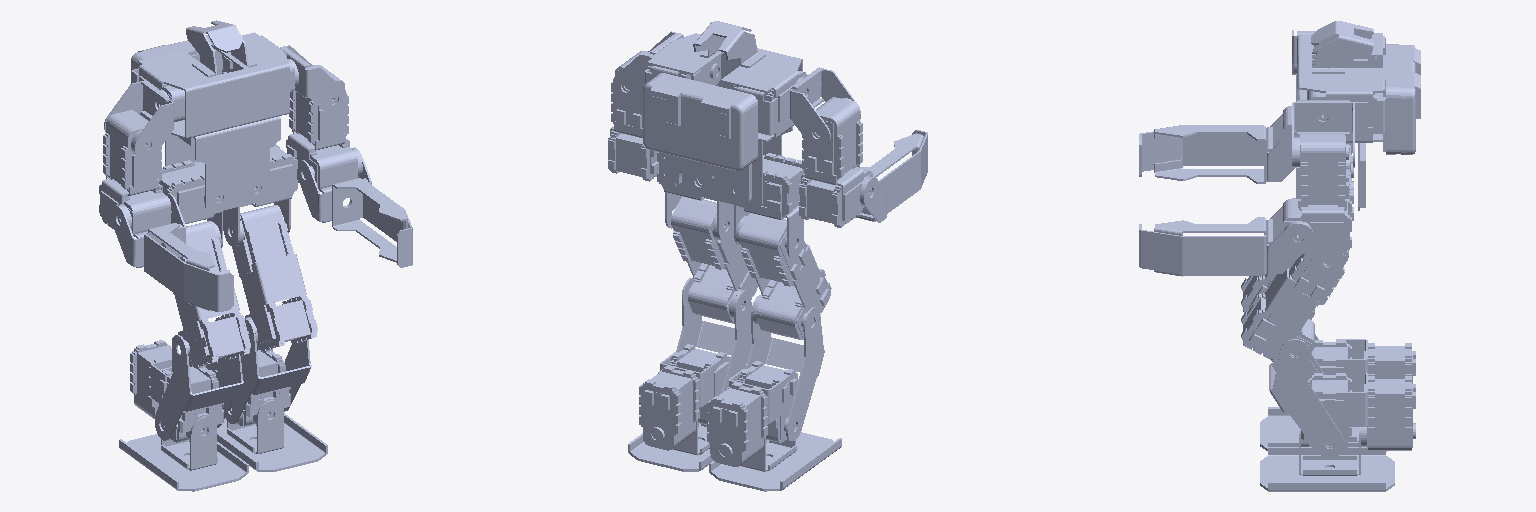
--- Facts derived from the render (not from the file) ---
3 views of the same robot in one strip: view 1: azimuth 30°, elevation 25°; view 2: azimuth 150°, elevation 25°; view 3: azimuth 270°, elevation 25° (orthographic).
Model BioloidGP with 17 links and 16 joints (16 revolute), rooted at torso, posed all joints at 0.
Visible links, largest first — view 1: torso, l_thigh, r_hand, r_arm, l_hand, r_foot, l_arm, r_thigh, l_foot, r_heel, r_shin, l_shin (+5 smaller); view 2: torso, r_thigh, r_heel, r_arm, l_heel, l_thigh, r_foot, r_shin, r_hand, l_shin, r_hip, l_arm (+4 smaller); view 3: torso, l_hand, r_hand, l_arm, l_heel, l_thigh, l_foot, l_shin, r_heel, l_shoulder, r_foot, r_thigh (+1 smaller).
Link boxes in pixels (left/top/right/bottom): torso: left=131, top=20, right=298, bottom=212; l_thigh: left=230, top=205, right=317, bottom=351; r_hand: left=111, top=193, right=233, bottom=311; r_arm: left=99, top=110, right=170, bottom=236; l_hand: left=297, top=147, right=412, bottom=267; r_foot: left=119, top=416, right=248, bottom=491; l_arm: left=286, top=65, right=362, bottom=191; r_thigh: left=162, top=221, right=250, bottom=367; l_foot: left=217, top=400, right=327, bottom=471; r_heel: left=130, top=340, right=223, bottom=442; r_shin: left=155, top=335, right=243, bottom=440; l_shin: left=225, top=318, right=311, bottom=423; torso: left=643, top=21, right=807, bottom=209; r_thigh: left=736, top=213, right=831, bottom=339; r_heel: left=707, top=361, right=797, bottom=466; r_arm: left=799, top=97, right=872, bottom=227; l_heel: left=639, top=344, right=729, bottom=450; l_thigh: left=671, top=196, right=758, bottom=323; r_foot: left=709, top=432, right=841, bottom=491; r_shin: left=745, top=294, right=824, bottom=440; r_hand: left=855, top=130, right=927, bottom=222; l_shin: left=676, top=278, right=751, bottom=393; r_hip: left=734, top=153, right=804, bottom=257; l_arm: left=608, top=51, right=658, bottom=181; torso: left=1297, top=21, right=1420, bottom=210; l_hand: left=1139, top=198, right=1313, bottom=276; r_hand: left=1139, top=114, right=1296, bottom=183; l_arm: left=1283, top=133, right=1351, bottom=253; l_heel: left=1301, top=373, right=1415, bottom=454; l_thigh: left=1241, top=250, right=1348, bottom=362; l_foot: left=1260, top=427, right=1394, bottom=491; l_shin: left=1269, top=339, right=1344, bottom=457; r_heel: left=1312, top=339, right=1415, bottom=383; l_shoulder: left=1292, top=100, right=1354, bottom=167; r_foot: left=1260, top=407, right=1386, bottom=451; r_thigh: left=1241, top=274, right=1314, bottom=319.
Bounding box of the posed robot: 0.2024 × 0.2024 × 0.3404 m (x, y, z).
17 mesh visuals loaded from 17 distinct referenced files (16 binary STL, 1 OBJ).

URDF robot description (BioloidGP):
<robot
    name="BioloidGP">
  <link
      name="torso">
    <inertial>
      <origin
          xyz="-0.000250324865569353 -0.029407680000666 -0.0227167726210591"
          rpy="0 0 0" />
      <mass
          value="0.323808555028714" />
      <inertia
          ixx="0.000452106276656287"
          ixy="-3.6274580970901E-06"
          ixz="-3.55584170221267E-06"
          iyy="0.000546208431007415"
          iyz="-5.35794321291033E-05"
          izz="0.000433800331086534" />
    </inertial>
    <visual>
      <origin
          xyz="0 0 0"
          rpy="0 0 0" />
      <geometry>
        <mesh
            filename="torsoNoBattery.obj" />
      </geometry>
      <material
          name="">
        <color
            rgba="0.792156862745098 0.819607843137255 0.933333333333333 1" />
      </material>
    </visual>
    <collision>
      <origin
          xyz="0 0 0"
          rpy="0 0 0" />
      <geometry>
        <mesh
            filename="torsoNoBattery.obj" />
      </geometry>
    </collision>
  </link>
  <link
      name="l_hip">
    <inertial>
      <origin
          xyz="-0.0022091131462685 -0.0128045568194227 0.0011465415996348"
          rpy="0 0 0" />
      <mass
          value="0.0496268557535681" />
      <inertia
          ixx="1.48616959606825E-05"
          ixy="6.6137669558419E-08"
          ixz="8.17238964747919E-08"
          iyy="1.09736561394743E-05"
          iyz="2.29192170351274E-07"
          izz="1.5045317979231E-05" />
    </inertial>
    <visual>
      <origin
          xyz="0 0 0"
          rpy="0 0 0" />
      <geometry>
        <mesh
            filename="l_hip.STL" />
      </geometry>
      <material
          name="">
        <color
            rgba="0.792156862745098 0.819607843137255 0.933333333333333 1" />
      </material>
    </visual>
    <collision>
      <origin
          xyz="0 0 0"
          rpy="0 0 0" />
      <geometry>
        <mesh
            filename="l_hip.STL" />
      </geometry>
    </collision>
  </link>
  <joint
      name="l_hip"
      type="revolute">
    <origin
        xyz="0.0159999999999967 0 -0.0765"
        rpy="1.5707963267949 -1.5707963267949 0" />
    <parent
        link="torso" />
    <child
        link="l_hip" />
    <axis
        xyz="0 0 -1" />
    <dynamics damping="0.1" friction="0" />
    <limit effort="200" velocity="12" lower="-2.1000" upper="2.1000" />
    <safety_controller k_position="100" k_velocity="100" soft_lower_limit="-10.6981" soft_upper_limit="10.6981" />
  </joint>
  <link
      name="l_thigh">
    <inertial>
      <origin
          xyz="-0.00100679656416081 -0.0436512889358152 -0.0115146440426869"
          rpy="0 0 0" />
      <mass
          value="0.0943483319483085" />
      <inertia
          ixx="0.000107817177501598"
          ixy="4.03579084705786E-06"
          ixz="-2.58279010663784E-07"
          iyy="2.26809588767613E-05"
          iyz="2.32703245456579E-07"
          izz="0.000108750782236108" />
    </inertial>
    <visual>
      <origin
          xyz="0 0 0"
          rpy="0 0 0" />
      <geometry>
        <mesh
            filename="l_thigh.STL" />
      </geometry>
      <material
          name="">
        <color
            rgba="0.792156862745098 0.819607843137255 0.933333333333333 1" />
      </material>
    </visual>
    <collision>
      <origin
          xyz="0 0 0"
          rpy="0 0 0" />
      <geometry>
        <mesh
            filename="l_thigh.STL" />
      </geometry>
    </collision>
  </link>
  <joint
      name="l_thigh"
      type="revolute">
    <origin
        xyz="-0.0417999999999999 0 0.000399999999996359"
        rpy="-1.57079632679489 -1.0471975511966 -1.38777878078145E-15" />
    <parent
        link="l_hip" />
    <child
        link="l_thigh" />
    <axis
        xyz="0 0 1" />
    <dynamics damping="0.1" friction="0" />
    <limit effort="200" velocity="12" lower="-2.1000" upper="2.1000" />
    <safety_controller k_position="100" k_velocity="100" soft_lower_limit="-10.6981" soft_upper_limit="10.6981" />
  </joint>

  <link
      name="l_shin">
    <inertial>
      <origin
          xyz="-0.0127000000000007 0.0340551332977271 0.015563237763762"
          rpy="0 0 0" />
      <mass
          value="0.00790727972273849" />
      <inertia
          ixx="5.32776553828392E-06"
          ixy="-1.81109996454885E-19"
          ixz="-3.19965088401743E-20"
          iyy="4.22027747361512E-06"
          iyz="3.92003519035654E-07"
          izz="7.78909127423424E-06" />
    </inertial>
    <visual>
      <origin
          xyz="0 0 0"
          rpy="0 0 0" />
      <geometry>
        <mesh
            filename="l_shin.STL" />
      </geometry>
      <material
          name="">
        <color
            rgba="0.792156862745098 0.819607843137255 0.933333333333333 1" />
      </material>
    </visual>
    <collision>
      <origin
          xyz="0 0 0"
          rpy="0 0 0" />
      <geometry>
        <mesh
            filename="l_shin.STL" />
      </geometry>
    </collision>
  </link>
  <joint
      name="l_shin"
      type="revolute">
    <origin
        xyz="-0.0156000000000005 -0.0743999999999996 0"
        rpy="2.0943483319483085 -1.5707963267949 0" />
    <parent
        link="l_thigh" />
    <child
        link="l_shin" />
    <axis
        xyz="1 0 0" />
    <dynamics damping="0.1" friction="0" />
    <limit effort="200" velocity="12" lower="-2.1000" upper="2.1000" />
    <safety_controller k_position="100" k_velocity="100" soft_lower_limit="-10.6981" soft_upper_limit="10.6981" />
  </joint>

  <link
      name="l_heel">
    <inertial>
      <origin
          xyz="-0.0127471904005562 0.019537076734909 0.0118127454835659"
          rpy="0 0 0" />
      <mass
          value="0.0961765714728049" />
      <inertia
          ixx="6.31330083138111E-05"
          ixy="-3.19975987021481E-07"
          ixz="-2.32144687284712E-07"
          iyy="2.59499124215307E-05"
          iyz="5.4845575097287E-07"
          izz="7.1796389444019E-05" />
    </inertial>
    <visual>
      <origin
          xyz="0 0 0"
          rpy="0 0 0" />
      <geometry>
        <mesh
            filename="l_heel.STL" />
      </geometry>
      <material
          name="">
        <color
            rgba="0.792156862745098 0.819607843137255 0.933333333333333 1" />
      </material>
    </visual>
    <collision>
      <origin
          xyz="0 0 0"
          rpy="0 0 0" />
      <geometry>
        <mesh
            filename="l_heel.STL" />
      </geometry>
    </collision>
  </link>
  <joint
      name="l_heel"
      type="revolute">
    <origin
        xyz="0 0.0750000000000011 0.0144999999999982"
        rpy="-1.5707963267949 -0.523598775598291 1.5707963267949" />
    <parent
        link="l_shin" />
    <child
        link="l_heel" />
    <axis
        xyz="0 0 -1" />
    <dynamics damping="0.1" friction="0" />
    <limit effort="200" velocity="12" lower="-2.1000" upper="2.1000" />
    <safety_controller k_position="100" k_velocity="100" soft_lower_limit="-10.6981" soft_upper_limit="10.6981" />
  </joint>

  <link
      name="l_foot">
    <inertial>
      <origin
          xyz="-0.00131235735522086 0.0275947483062579 -0.00415898272684236"
          rpy="0 0 0" />
      <mass
          value="0.017613702318087" />
      <inertia
          ixx="6.4413340155928E-06"
          ixy="-7.4168165680616E-08"
          ixz="3.57223027579177E-08"
          iyy="1.64253742929524E-05"
          iyz="-2.03962455621592E-07"
          izz="1.21662517458466E-05" />
    </inertial>
    <visual>
      <origin
          xyz="0 0 0"
          rpy="0 0 0" />
      <geometry>
        <mesh
            filename="l_foot.STL" />
      </geometry>
      <material
          name="">
        <color
            rgba="0.792156862745098 0.819607843137255 0.933333333333333 1" />
      </material>
    </visual>
    <collision>
      <origin
          xyz="0 0 0"
          rpy="0 0 0" />
      <geometry>
        <mesh
            filename="l_foot_box.obj" />
      </geometry>
    </collision>
  </link>
  <joint
      name="l_foot"
      type="revolute">
    <origin
        xyz="0.000299999999999467 0 0.0121000000000051"
        rpy="-3.14159265358979 3.46944695195361E-16 1.5707963267949" />
    <parent
        link="l_heel" />
    <child
        link="l_foot" />
    <axis
        xyz="1 0 0" />
    <dynamics damping="0.1" friction="0" />
    <limit effort="200" velocity="12" lower="-2.1000" upper="2.1000" />
    <safety_controller k_position="100" k_velocity="100" soft_lower_limit="-10.6981" soft_upper_limit="10.6981" />
  </joint>

  <link
      name="r_hip">
    <inertial>
      <origin
          xyz="0.00220885214673641 -0.0128045568194226 0.00114654159963536"
          rpy="0 0 0" />
      <mass
          value="0.0496268557535681" />
      <inertia
          ixx="1.48616959606825E-05"
          ixy="-6.6303521683512E-08"
          ixz="-8.19551449322855E-08"
          iyy="1.097371336355E-05"
          iyz="2.29192170351272E-07"
          izz="1.50453752033067E-05" />
    </inertial>
    <visual>
      <origin
          xyz="0 0 0"
          rpy="0 0 0" />
      <geometry>
        <mesh
            filename="r_hip.STL" />
      </geometry>
      <material
          name="">
        <color
            rgba="0.792156862745098 0.819607843137255 0.933333333333333 1" />
      </material>
    </visual>
    <collision>
      <origin
          xyz="0 0 0"
          rpy="0 0 0" />
      <geometry>
        <mesh
            filename="r_hip.STL" />
      </geometry>
    </collision>
  </link>
  <joint
      name="r_hip"
      type="revolute">
    <origin
        xyz="-0.0160000000000027 0 -0.0765"
        rpy="1.5707963267949 1.5707963267949 0" />
    <parent
        link="torso" />
    <child
        link="r_hip" />
    <axis
        xyz="0 0 -1" />
    <dynamics damping="0.1" friction="0" />
    <limit effort="200" velocity="12" lower="-2.1000" upper="2.1000" />
    <safety_controller k_position="100" k_velocity="100" soft_lower_limit="-10.6981" soft_upper_limit="10.6981" />
  </joint>

  <link
      name="r_thigh">
    <inertial>
      <origin
          xyz="0.00100665927942036 -0.0436511516510763 -0.0115146440426889"
          rpy="0 0 0" />
      <mass
          value="0.0943483319483086" />
      <inertia
          ixx="0.000107816380949157"
          ixy="-4.03616722263671E-06"
          ixz="2.58048264952533E-07"
          iyy="2.26809849562218E-05"
          iyz="2.32933991165688E-07"
          izz="0.000108750011763128" />
    </inertial>
    <visual>
      <origin
          xyz="0 0 0"
          rpy="0 0 0" />
      <geometry>
        <mesh
            filename="r_thigh.STL" />
      </geometry>
      <material
          name="">
        <color
            rgba="0.792156862745098 0.819607843137255 0.933333333333333 1" />
      </material>
    </visual>
    <collision>
      <origin
          xyz="0 0 0"
          rpy="0 0 0" />
      <geometry>
        <mesh
            filename="r_thigh.STL" />
      </geometry>
    </collision>
  </link>
  <joint
      name="r_thigh"
      type="revolute">
    <origin
        xyz="0.0417999999999985 0 0.000399999999998048"
        rpy="-1.57079632679489 1.0471975511966 1.38777878078145E-15" />
    <parent
        link="r_hip" />
    <child
        link="r_thigh" />
    <axis
        xyz="0 0 -1" />
    <dynamics damping="0.1" friction="0" />
    <limit effort="200" velocity="12" lower="-2.1000" upper="2.1000" />
    <safety_controller k_position="100" k_velocity="100" soft_lower_limit="-10.6981" soft_upper_limit="10.6981" />
  </joint>

  <link
      name="r_shin">
    <inertial>
      <origin
          xyz="0.0126999999999997 0.0340551332977292 0.0155632377637589"
          rpy="0 0 0" />
      <mass
          value="0.00790727972273849" />
      <inertia
          ixx="5.3277655382839E-06"
          ixy="-1.79867730427403E-19"
          ixz="-3.24979242833124E-20"
          iyy="4.22027747361512E-06"
          iyz="3.92003519035653E-07"
          izz="7.78909127423422E-06" />
    </inertial>
    <visual>
      <origin
          xyz="0 0 0"
          rpy="0 0 0" />
      <geometry>
        <mesh
            filename="r_shin.STL" />
      </geometry>
      <material
          name="">
        <color
            rgba="0.792156862745098 0.819607843137255 0.933333333333333 1" />
      </material>
    </visual>
    <collision>
      <origin
          xyz="0 0 0"
          rpy="0 0 0" />
      <geometry>
        <mesh
            filename="r_shin.STL" />
      </geometry>
    </collision>
  </link>
  <joint
      name="r_shin"
      type="revolute">
    <origin
        xyz="0.0156 -0.0743999999999986 0"
        rpy="2.0943951023932 1.5707963267949 0" />
    <parent
        link="r_thigh" />
    <child
        link="r_shin" />
    <axis
        xyz="1 0 0" />
    <dynamics damping="0.1" friction="0" />
    <limit effort="200" velocity="12" lower="-2.1000" upper="2.1000" />
    <safety_controller k_position="100" k_velocity="100" soft_lower_limit="-10.6981" soft_upper_limit="10.6981" />
  </joint>

  <link
      name="r_heel">
    <inertial>
      <origin
          xyz="-0.0127471904005561 0.0195372114099762 -0.0118126108084964"
          rpy="0 0 0" />
      <mass
          value="0.0961765714728048" />
      <inertia
          ixx="6.31324947576051E-05"
          ixy="-3.19810877939643E-07"
          ixz="2.32313682142065E-07"
          iyy="2.59499049784084E-05"
          iyz="-5.48154272615285E-07"
          izz="7.17958833309353E-05" />
    </inertial>
    <visual>
      <origin
          xyz="0 0 0"
          rpy="0 0 0" />
      <geometry>
        <mesh
            filename="r_heel.STL" />
      </geometry>
      <material
          name="">
        <color
            rgba="0.792156862745098 0.819607843137255 0.933333333333333 1" />
      </material>
    </visual>
    <collision>
      <origin
          xyz="0 0 0"
          rpy="0 0 0" />
      <geometry>
        <mesh
            filename="r_heel.STL" />
      </geometry>
    </collision>
  </link>
  <joint
      name="r_heel"
      type="revolute">
    <origin
        xyz="0 0.0750000000000024 0.0144999999999966"
        rpy="-1.5707963267949 -0.523598775598298 1.5707963267949" />
    <parent
        link="r_shin" />
    <child
        link="r_heel" />
    <axis
        xyz="0 0 -1" />
    <dynamics damping="0.1" friction="0" />
    <limit effort="200" velocity="12" lower="-2.1000" upper="2.1000" />
    <safety_controller k_position="100" k_velocity="100" soft_lower_limit="-10.6981" soft_upper_limit="10.6981" />
  </joint>

  <link
      name="r_foot">
    <inertial>
      <origin
          xyz="-0.00131235735521849 0.0275947483062589 0.00415898272684114"
          rpy="0 0 0" />
      <mass
          value="0.017613702318087" />
      <inertia
          ixx="6.44133401559294E-06"
          ixy="-7.41681656806808E-08"
          ixz="-3.5722302757639E-08"
          iyy="1.64253742929524E-05"
          iyz="2.03962455621599E-07"
          izz="1.21662517458467E-05" />
    </inertial>
    <visual>
      <origin
          xyz="0 0 0"
          rpy="0 0 0" />
      <geometry>
        <mesh
            filename="r_foot.STL" />
      </geometry>
      <material
          name="">
        <color
            rgba="0.792156862745098 0.819607843137255 0.933333333333333 1" />
      </material>
    </visual>
    <collision>
      <origin
          xyz="0 0 0"
          rpy="0 0 0" />
      <geometry>
        <mesh
            filename="r_foot_box.obj" />
      </geometry>
    </collision>
  </link>
  <joint
      name="r_foot"
      type="revolute">
    <origin
        xyz="0.0003000000000008 0 -0.0121000000000034"
        rpy="-3.14159265358979 -2.42861286636753E-15 1.5707963267949" />
    <parent
        link="r_heel" />
    <child
        link="r_foot" />
    <axis
        xyz="1 0 0" />
    <dynamics damping="0.1" friction="0" />
    <limit effort="200" velocity="12" lower="-2.1000" upper="2.1000" />
    <safety_controller k_position="100" k_velocity="100" soft_lower_limit="-10.6981" soft_upper_limit="10.6981" />
  </joint>

  <link
      name="l_shoulder">
    <inertial>
      <origin
          xyz="3.99848313369956E-08 -0.00923318844442571 0.00508037063086597"
          rpy="0 0 0" />
      <mass
          value="0.00432191406725111" />
      <inertia
          ixx="8.72162726851168E-07"
          ixy="1.59739093137393E-12"
          ixz="-7.83511401856554E-13"
          iyy="1.89413501942903E-06"
          iyz="-2.56794853568278E-07"
          izz="1.81730737071507E-06" />
    </inertial>
    <visual>
      <origin
          xyz="0 0 0"
          rpy="0 0 0" />
      <geometry>
        <mesh
            filename="l_shoulder.STL" />
      </geometry>
      <material
          name="">
        <color
            rgba="0.792156862745098 0.819607843137255 0.933333333333333 1" />
      </material>
    </visual>
    <collision>
      <origin
          xyz="0 0 0"
          rpy="0 0 0" />
      <geometry>
        <mesh
            filename="l_shoulder.STL" />
      </geometry>
    </collision>
  </link>
  <joint
      name="l_shoulder"
      type="revolute">
    <origin
        xyz="0.056090945471339 -0.00380000000000099 0.000299999999999985"
        rpy="3.14159265358979 -6.12303176911189E-17 -1.5707963267949" />
    <parent
        link="torso" />
    <child
        link="l_shoulder" />
    <axis
        xyz="0 1 0" />
    <dynamics damping="0.1" friction="0" />
    <limit effort="200" velocity="12" lower="-2.1000" upper="2.1000" />
    <safety_controller k_position="100" k_velocity="100" soft_lower_limit="-10.6981" soft_upper_limit="10.6981" />
  </joint>

  <link
      name="l_arm">
    <inertial>
      <origin
          xyz="0.000399125912491638 -0.0352016589942529 0.0031269511037125"
          rpy="0 0 0" />
      <mass
          value="0.0928078955204749" />
      <inertia
          ixx="6.9759461871932E-05"
          ixy="-8.22763944637886E-07"
          ixz="3.02019074715716E-07"
          iyy="2.18725319729742E-05"
          iyz="-3.73674004526739E-06"
          izz="6.39163662787992E-05" />
    </inertial>
    <visual>
      <origin
          xyz="0 0 0"
          rpy="0 0 0" />
      <geometry>
        <mesh
            filename="l_arm.STL" />
      </geometry>
      <material
          name="">
        <color
            rgba="0.792156862745098 0.819607843137255 0.933333333333333 1" />
      </material>
    </visual>
    <collision>
      <origin
          xyz="0 0 0"
          rpy="0 0 0" />
      <geometry>
        <mesh
            filename="l_arm.STL" />
      </geometry>
    </collision>
  </link>
  <joint
      name="l_arm"
      type="revolute">
    <origin
        xyz="0 -0.0230090545286614 0.0180000000000001"
        rpy="-1.5707963267949 5.96311194867027E-17 -1.5707963267949" />
    <parent
        link="l_shoulder" />
    <child
        link="l_arm" />
    <axis
        xyz="0 0 -1" />
    <dynamics damping="0.1" friction="0" />
    <limit effort="200" velocity="12" lower="-2.1000" upper="2.1000" />
    <safety_controller k_position="100" k_velocity="100" soft_lower_limit="-10.6981" soft_upper_limit="10.6981" />
  </joint>

  <link
      name="l_hand">
    <inertial>
      <origin
          xyz="-0.00430436807382556 -0.0484721582738854 0.0164089872229183"
          rpy="0 0 0" />
      <mass
          value="0.0138005964582816" />
      <inertia
          ixx="1.84571140864915E-05"
          ixy="1.00483996060817E-06"
          ixz="-1.03293552796158E-07"
          iyy="4.05560836494352E-06"
          iyz="-1.01861874923564E-06"
          izz="1.84338295416552E-05" />
    </inertial>
    <visual>
      <origin
          xyz="0 0 0"
          rpy="0 0 0" />
      <geometry>
        <mesh
            filename="l_hand.STL" />
      </geometry>
      <material
          name="">
        <color
            rgba="0.792156862745098 0.819607843137255 0.933333333333333 1" />
      </material>
    </visual>
    <collision>
      <origin
          xyz="0 0 0"
          rpy="0 0 0" />
      <geometry>
        <mesh
            filename="l_hand.STL" />
      </geometry>
    </collision>
  </link>
  <joint
      name="l_hand"
      type="revolute">
    <origin
        xyz="0 -0.0574000000000007 0.0178999999999967"
        rpy="-1.5707963267949 0 3.14159265358979" />
    <parent
        link="l_arm" />
    <child
        link="l_hand" />
    <axis
        xyz="1 0 0" />
    <dynamics damping="0.1" friction="0" />
    <limit effort="200" velocity="12" lower="-2.1000" upper="2.1000" />
    <safety_controller k_position="100" k_velocity="100" soft_lower_limit="-10.6981" soft_upper_limit="10.6981" />
  </joint>

  <link
      name="r_shoulder">
    <inertial>
      <origin
          xyz="3.99848294496165E-08 -0.00923318844442551 0.00508037063086597"
          rpy="0 0 0" />
      <mass
          value="0.00432191406725111" />
      <inertia
          ixx="8.72162726851168E-07"
          ixy="1.59739093229708E-12"
          ixz="-7.83511402809347E-13"
          iyy="1.89413501942903E-06"
          iyz="-2.56794853568278E-07"
          izz="1.81730737071507E-06" />
    </inertial>
    <visual>
      <origin
          xyz="0 0 0"
          rpy="0 0 0" />
      <geometry>
        <mesh
            filename="r_shoulder.STL" />
      </geometry>
      <material
          name="">
        <color
            rgba="0.792156862745098 0.819607843137255 0.933333333333333 1" />
      </material>
    </visual>
    <collision>
      <origin
          xyz="0 0 0"
          rpy="0 0 0" />
      <geometry>
        <mesh
            filename="r_shoulder.STL" />
      </geometry>
    </collision>
  </link>
  <joint
      name="r_shoulder"
      type="revolute">
    <origin
        xyz="-0.0560909454713421 -0.00380000000000099 0.00029999999999995"
        rpy="3.14159265358979 6.12303176911189E-17 1.5707963267949" />
    <parent
        link="torso" />
    <child
        link="r_shoulder" />
    <axis
        xyz="0 -1 0" />
    <dynamics damping="0.1" friction="0" />
    <limit effort="200" velocity="12" lower="-2.1000" upper="2.1000" />
    <safety_controller k_position="100" k_velocity="100" soft_lower_limit="-10.6981" soft_upper_limit="10.6981" />
  </joint>

  <link
      name="r_arm">
    <inertial>
      <origin
          xyz="-0.000399265475900426 -0.0352015194308453 0.00312695110371235"
          rpy="0 0 0" />
      <mass
          value="0.0928078955204748" />
      <inertia
          ixx="6.97588868182759E-05"
          ixy="8.22072245539953E-07"
          ixz="-3.0222467174899E-07"
          iyy="2.18725216317411E-05"
          iyz="-3.73654869607888E-06"
          izz="6.391578088391E-05" />
    </inertial>
    <visual>
      <origin
          xyz="0 0 0"
          rpy="0 0 0" />
      <geometry>
        <mesh
            filename="r_arm.STL" />
      </geometry>
      <material
          name="">
        <color
            rgba="0.792156862745098 0.819607843137255 0.933333333333333 1" />
      </material>
    </visual>
    <collision>
      <origin
          xyz="0 0 0"
          rpy="0 0 0" />
      <geometry>
        <mesh
            filename="r_arm.STL" />
      </geometry>
    </collision>
  </link>
  <joint
      name="r_arm"
      type="revolute">
    <origin
        xyz="0 -0.0230090545286614 0.0180000000000001"
        rpy="-1.5707963267949 -5.96311194867027E-17 1.5707963267949" />
    <parent
        link="r_shoulder" />
    <child
        link="r_arm" />
    <axis
        xyz="0 0 -1" />
    <dynamics damping="0.1" friction="0" />
    <limit effort="200" velocity="12" lower="-2.1000" upper="2.1000" />
    <safety_controller k_position="100" k_velocity="100" soft_lower_limit="-10.6981" soft_upper_limit="10.6981" />
  </joint>

  <link
      name="r_hand">
    <inertial>
      <origin
          xyz="0.00430439311781934 0.0484721582738861 -0.0164089872229305"
          rpy="0 0 0" />
      <mass
          value="0.0138005964582816" />
      <inertia
          ixx="1.84571140864922E-05"
          ixy="1.00483116358824E-06"
          ixz="-1.03293913820269E-07"
          iyy="4.05560511306921E-06"
          iyz="-1.01861874924056E-06"
          izz="1.84338262897805E-05" />
    </inertial>
    <visual>
      <origin
          xyz="0 0 0"
          rpy="0 0 0" />
      <geometry>
        <mesh
            filename="r_hand.STL" />
      </geometry>
      <material
          name="">
        <color
            rgba="0.792156862745098 0.819607843137255 0.933333333333333 1" />
      </material>
    </visual>
    <collision>
      <origin
          xyz="0 0 0"
          rpy="0 0 0" />
      <geometry>
        <mesh
            filename="r_hand.STL" />
      </geometry>
    </collision>
  </link>
  <joint
      name="r_hand"
      type="revolute">
    <origin
        xyz="0 -0.0574000000000003 0.0178999999999966"
        rpy="1.5707963267949 0 3.14159265358979" />
    <parent
        link="r_arm" />
    <child
        link="r_hand" />
    <axis
        xyz="1 0 0" />
    <dynamics damping="0.1" friction="0" />
    <limit effort="200" velocity="12" lower="-2.1000" upper="2.1000" />
    <safety_controller k_position="100" k_velocity="100" soft_lower_limit="-10.6981" soft_upper_limit="10.6981" />
  </joint>

</robot>
